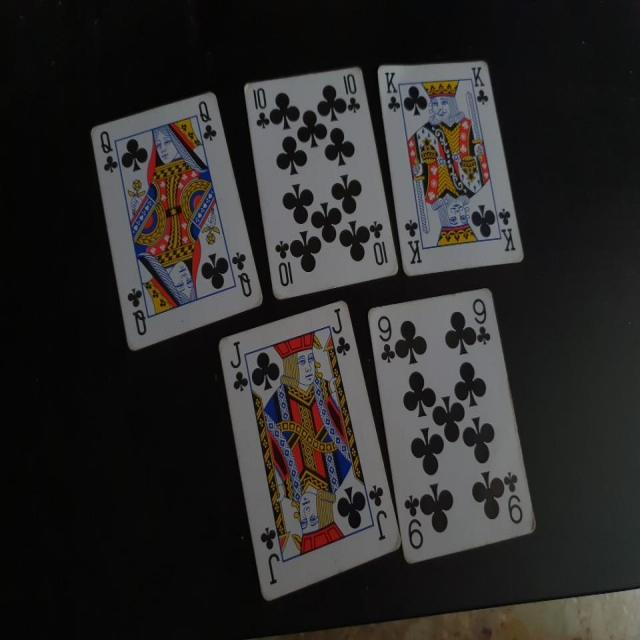10 Trefoils: (242, 66, 399, 301)
9 Trefoils: (366, 284, 538, 564)
J Trefoils: (218, 297, 404, 604)
K Trefoils: (378, 59, 524, 268)
Q Trefoils: (88, 90, 264, 353)
